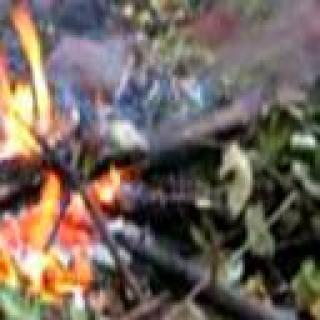fire: (0, 11, 106, 288)
